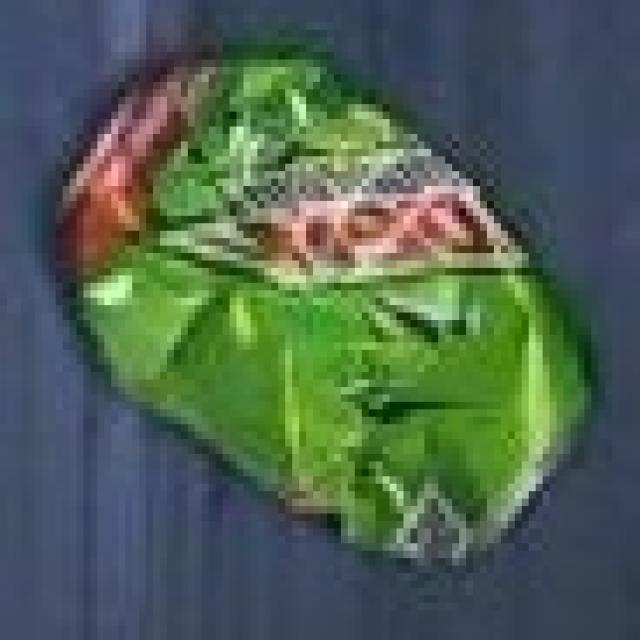can: (8, 2, 640, 628)
